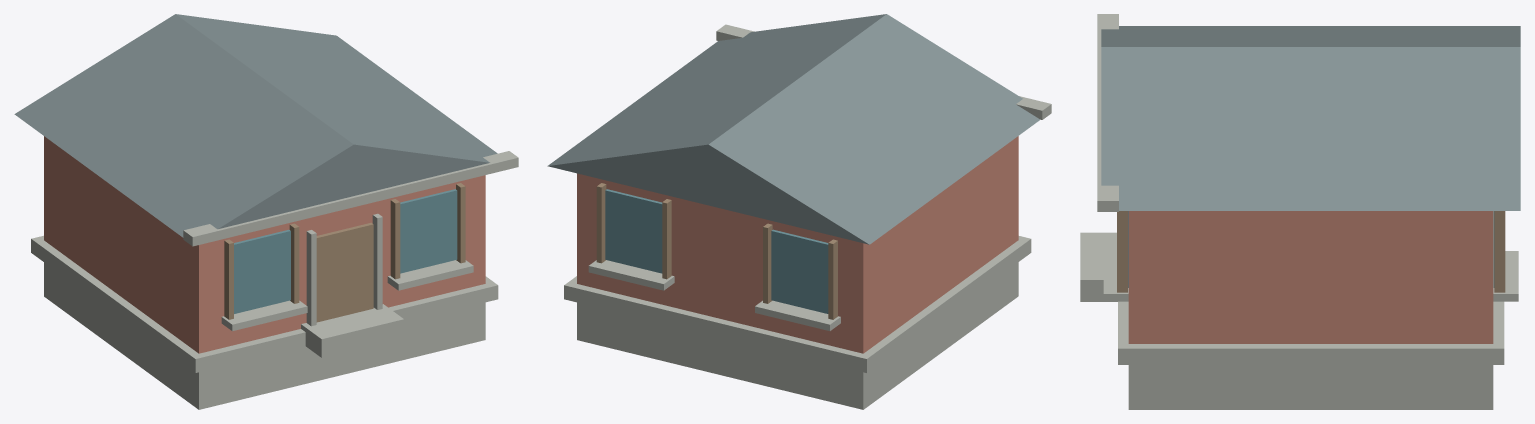
File: nord-0.glb
3 views of the same model, side by side, from view 1: azimuth 30°, elevation 25°; view 2: azimuth 150°, elevation 25°; view 3: azimuth 270°, elevation 25° (orthographic). The views are drawn at different scales.
Size of the model in its own units: 3.64 by 2.55 by 3.62.
